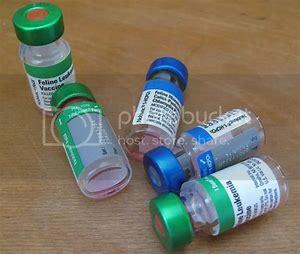Syringe: (146, 151, 299, 254), (136, 95, 260, 201), (40, 75, 136, 208), (8, 1, 82, 115), (122, 50, 193, 154)
